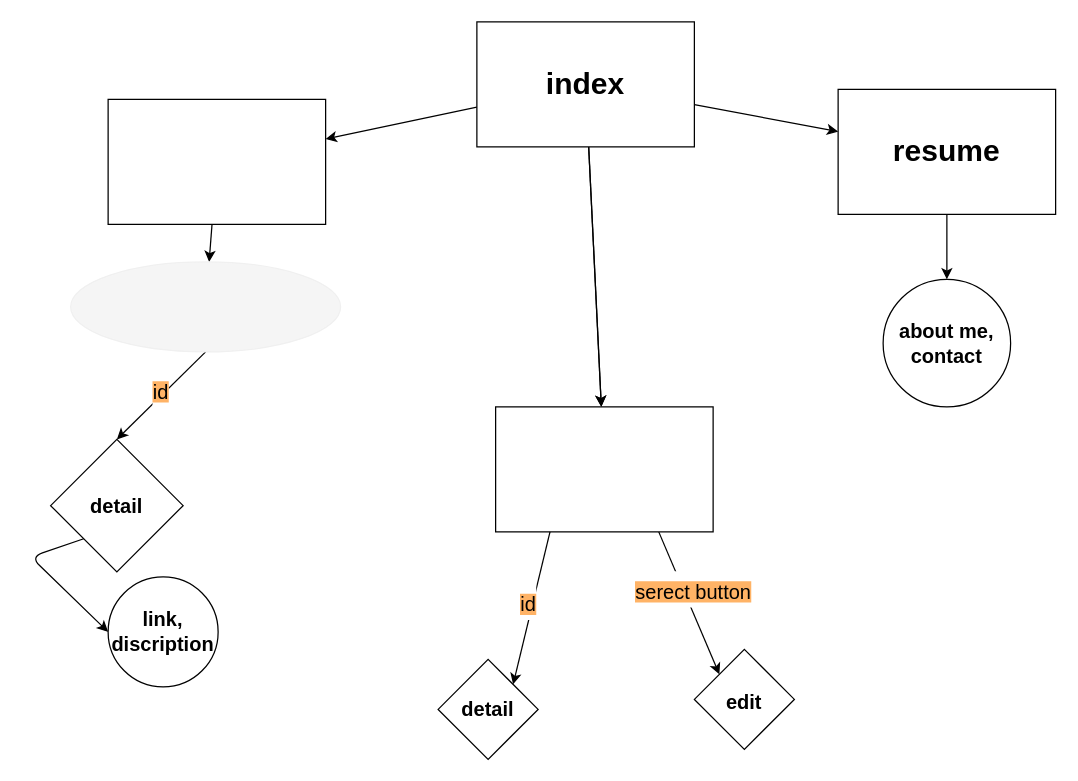
Some shapes in this 1078 by 781 pixel diagram are drawn without their labels. Here are the shapes that lost their labels. From the top down, the centre of each, then its label:
At (216,161): "portfolio index:list".
At (205,306): "tab:video, photo, dev, graphics".
At (603,469): "blog index:list".
